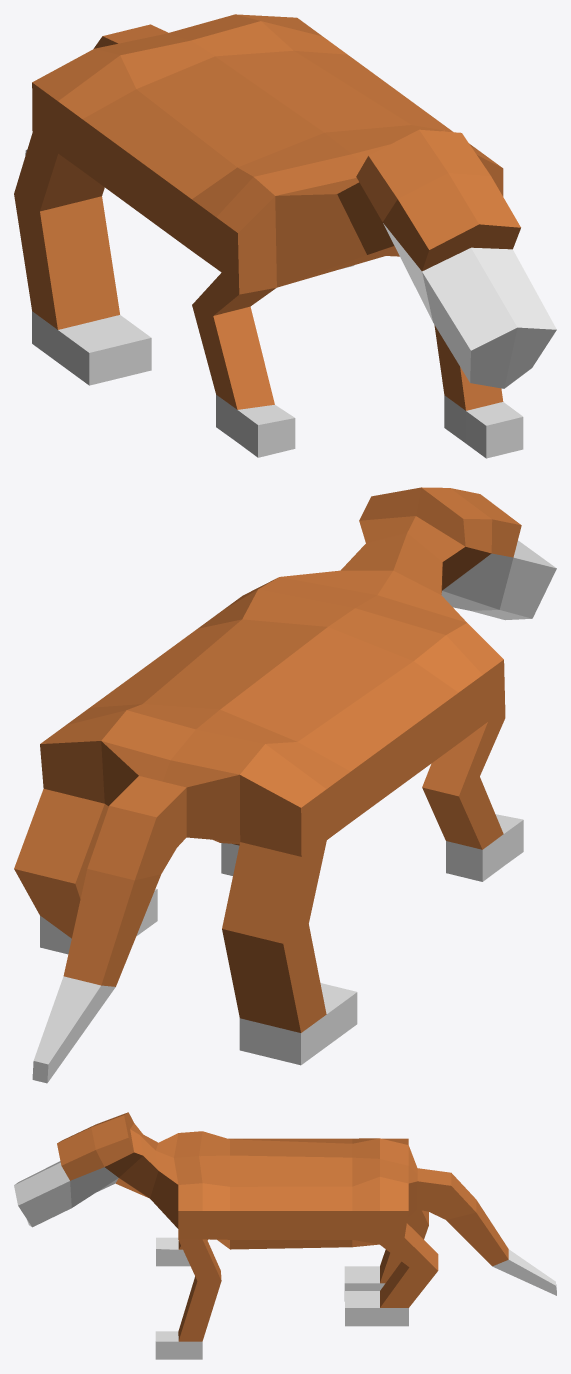
Rendered from Holodog8.fbx.
3 views of the same model, one above another, from view 1: azimuth 30°, elevation 25°; view 2: azimuth 150°, elevation 25°; view 3: azimuth 270°, elevation 25° (orthographic). The views are drawn at different scales.
Visible parts, largest first — view 1: Plane; view 2: Plane; view 3: Plane.
Part boxes in pixels (x1=…): Plane: x1=14, y1=14, x2=556, y2=458; Plane: x1=14, y1=487, x2=556, y2=1083; Plane: x1=14, y1=1112, x2=556, y2=1359.
Size of the model in its own units: 1.71 by 2.29 by 5.41.
